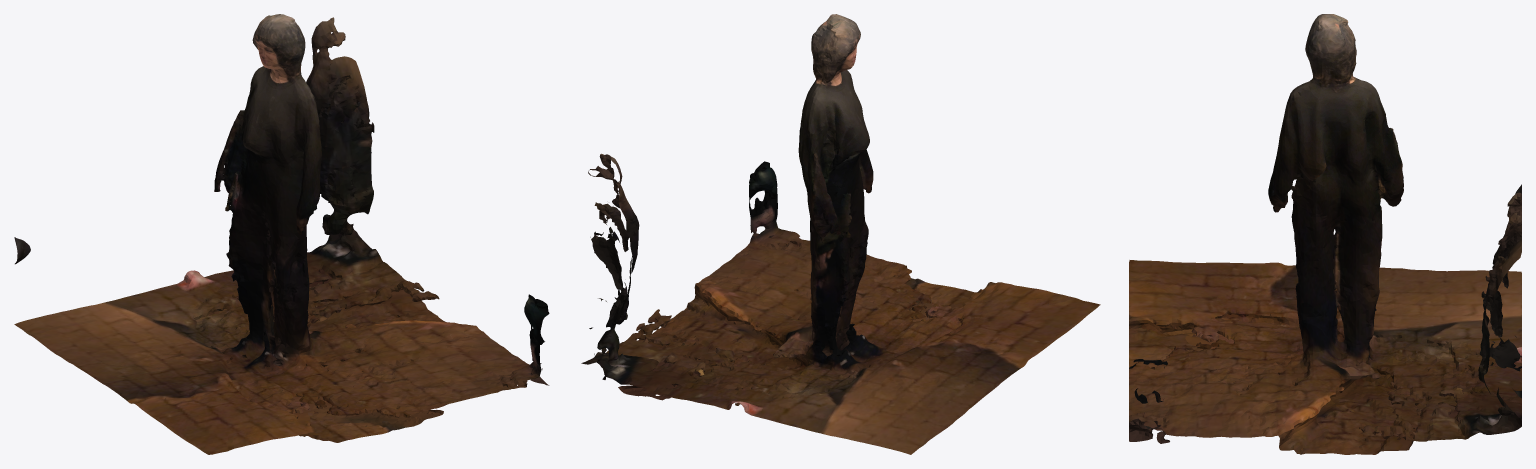
Rendered from mbo_friends_Bec.glb.
3 views of the same model, side by side, from view 1: azimuth 30°, elevation 25°; view 2: azimuth 150°, elevation 25°; view 3: azimuth 270°, elevation 25° (orthographic). The views are drawn at different scales.
Bounding box in the file's own units: 1.75 × 1.75 × 1.73.
Materials: 1 (1 with a texture image).
